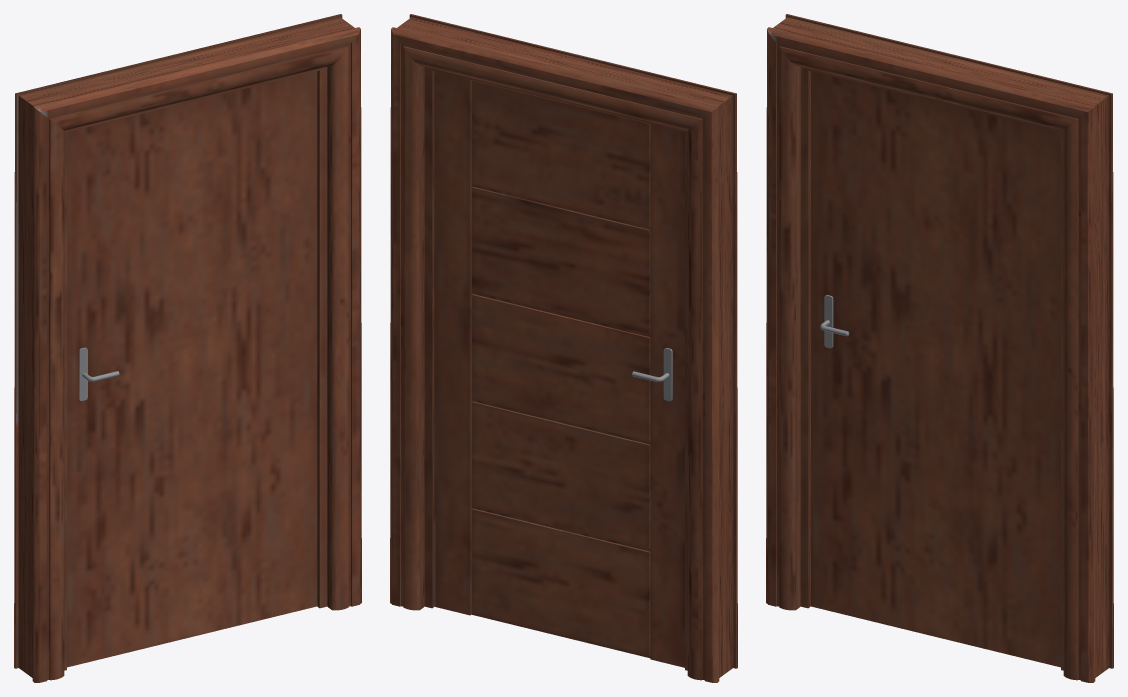
The model's file is door2.fbx.
3 renders of one model, left to right at view 1: azimuth 30°, elevation 25°; view 2: azimuth 150°, elevation 25°; view 3: azimuth 330°, elevation 25°, orthographic.
Visible parts, largest first — view 1: Group128_002.001, Cube; view 2: Group128_002.001, Cube; view 3: Group128_002.001, Cube.
Part boxes in pixels (x1,y1,x2,y2): Group128_002.001: (67,71,317,667); Cube: (14,14,361,682); Group128_002.001: (434,71,684,667); Cube: (390,14,737,682); Group128_002.001: (811,71,1060,667); Cube: (766,14,1113,682).
Bounding box in the file's own units: 2.46 × 4.13 × 0.3254.
1 material, 1 textured.
